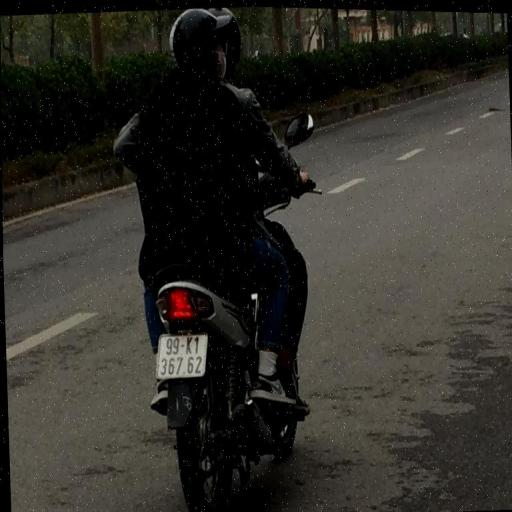bike: (106, 2, 329, 512)
numberplate: (154, 331, 210, 380)
with helmet: (169, 5, 231, 64)
